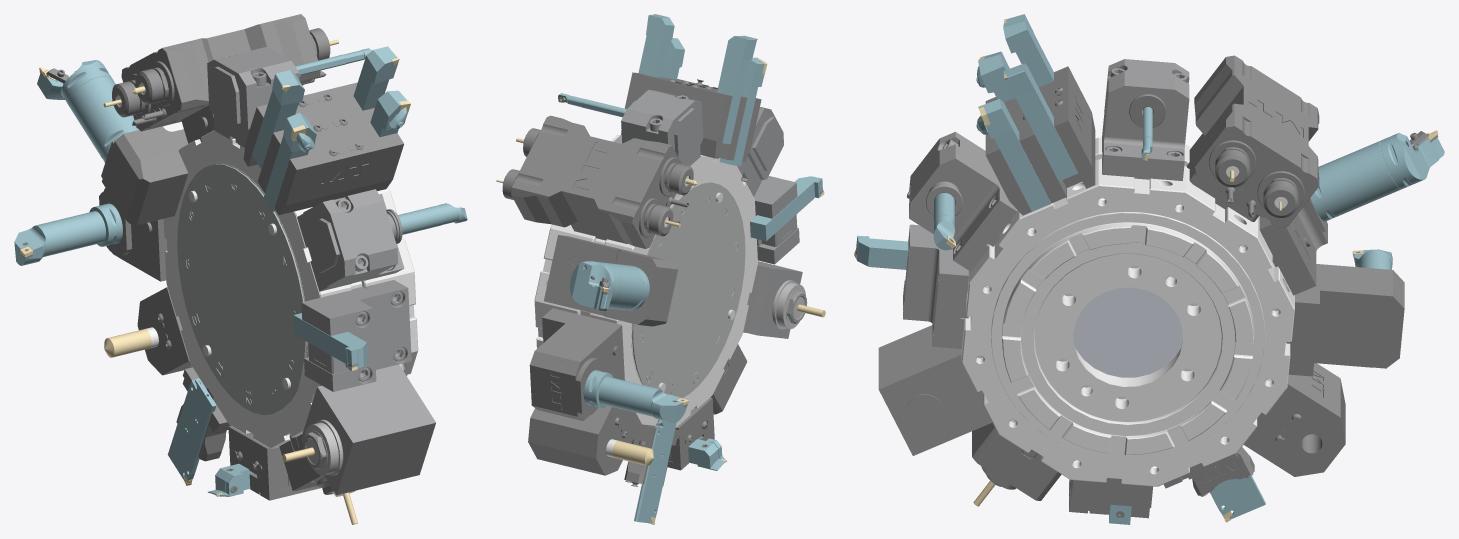
The model's file is turret-assembly.glb.
3 views of the same model, side by side, from view 1: azimuth 30°, elevation 25°; view 2: azimuth 150°, elevation 25°; view 3: azimuth 270°, elevation 25° (orthographic). The views are drawn at different scales.
Visible parts, largest first — view 1: Turret Assembly; view 2: Turret Assembly; view 3: Turret Assembly.
Part boxes in pixels (x1,y1,x2,y2): Turret Assembly: [14, 14, 467, 524]; Turret Assembly: [496, 14, 825, 524]; Turret Assembly: [854, 14, 1444, 524].
Bounding box in the file's own units: 36.07 × 65.63 × 69.94.
